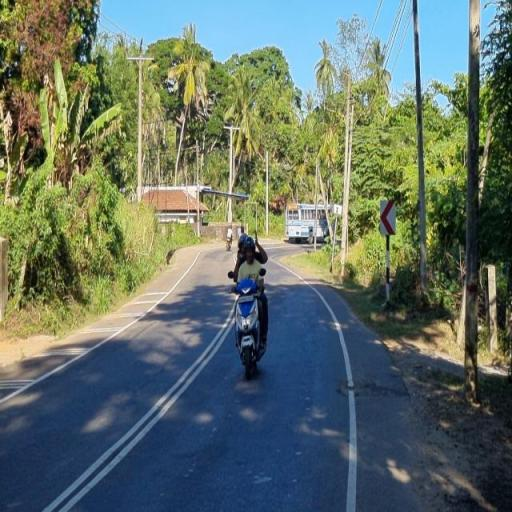double_white_line: (44, 316, 237, 510)
